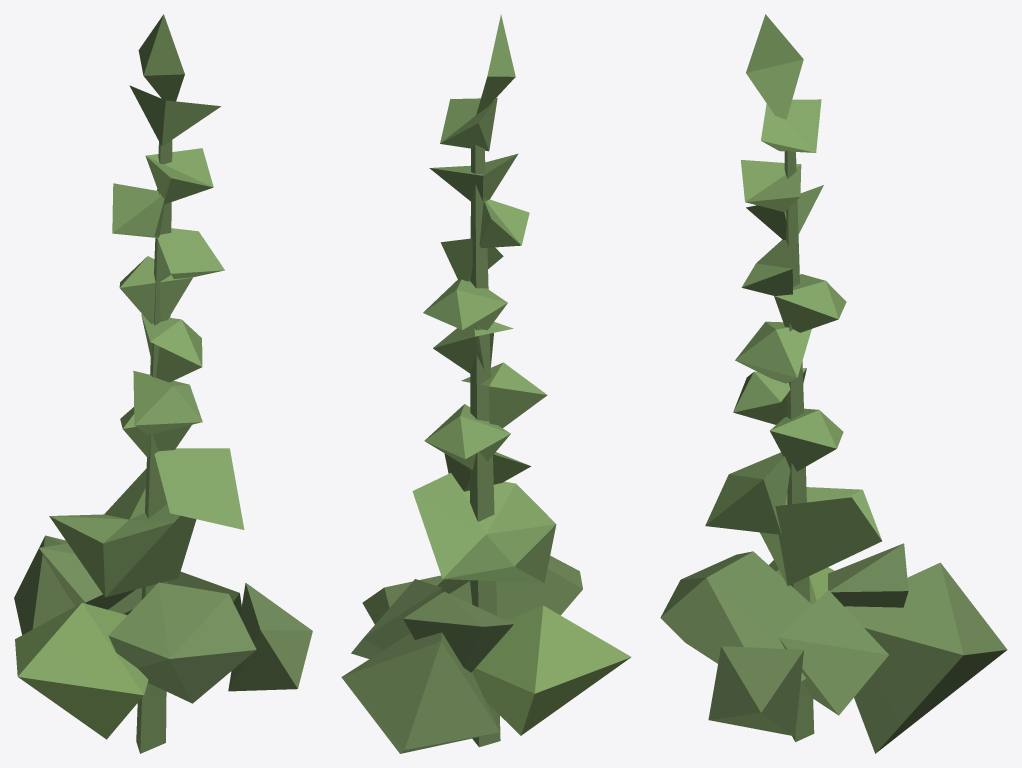
File: elven_SM_Env_Flowers_09.gltf
3 views of the same model, side by side, from view 1: azimuth 30°, elevation 25°; view 2: azimuth 150°, elevation 25°; view 3: azimuth 270°, elevation 25° (orthographic). The views are drawn at different scales.
Visible parts, largest first — view 1: SM_Env_Flowers_09; view 2: SM_Env_Flowers_09; view 3: SM_Env_Flowers_09.
Part boxes in pixels (left/top/right/bottom): SM_Env_Flowers_09: left=14, top=14, right=312, bottom=753; SM_Env_Flowers_09: left=341, top=14, right=631, bottom=753; SM_Env_Flowers_09: left=660, top=14, right=1007, bottom=753.
Bounding box in the file's own units: 0.392 × 0.9703 × 0.4233.
Materials: 1 (1 with a texture image).
